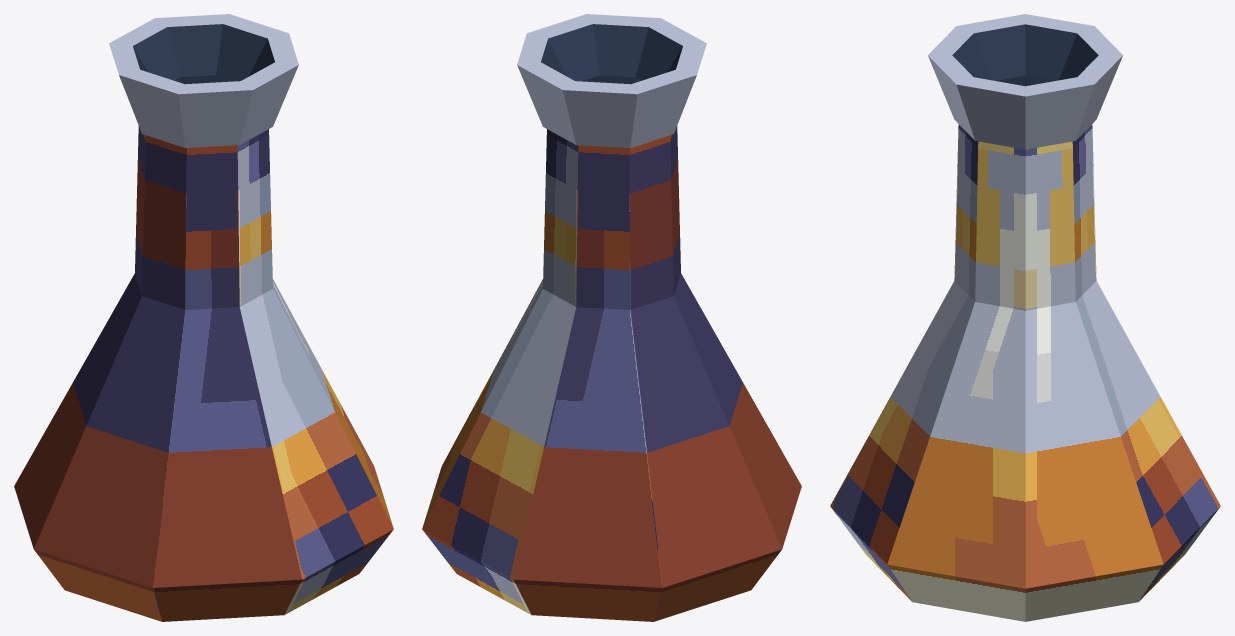
File: urn.glb
3 views of the same model, side by side, from view 1: azimuth 30°, elevation 25°; view 2: azimuth 150°, elevation 25°; view 3: azimuth 270°, elevation 25° (orthographic).
Visible parts, largest first — view 1: urn; view 2: urn; view 3: urn.
Boxes of the visible parts, bbox=[...] form: urn: bbox=[14, 14, 393, 621]; urn: bbox=[422, 14, 801, 621]; urn: bbox=[830, 14, 1220, 621].
Bounding box in the file's own units: 0.7097 × 1 × 0.7097.
1 material, 1 textured.
